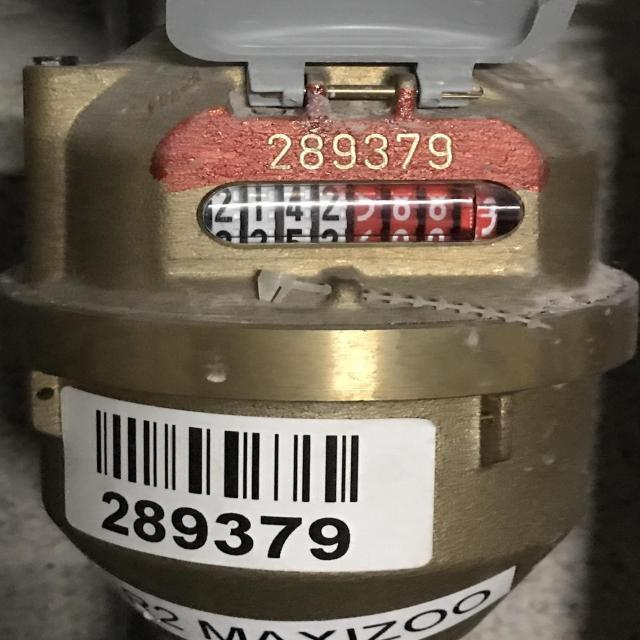gaz_meter: (56, 88, 608, 303)
indication: (206, 178, 511, 244)
